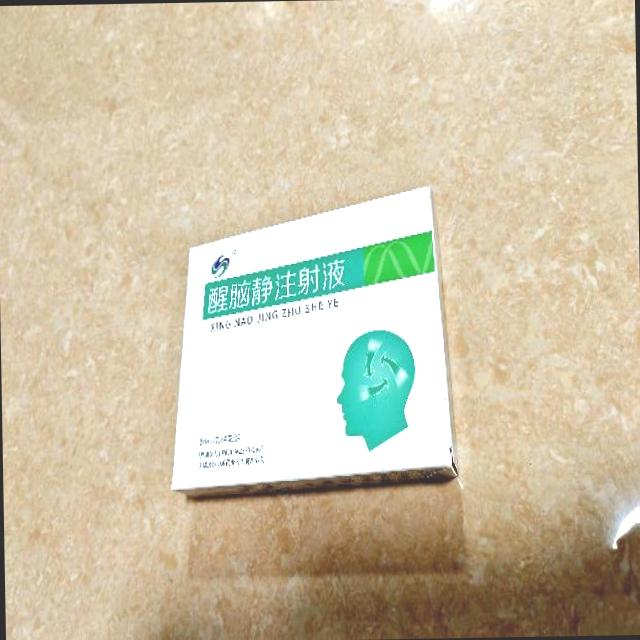box: (164, 184, 458, 496)
